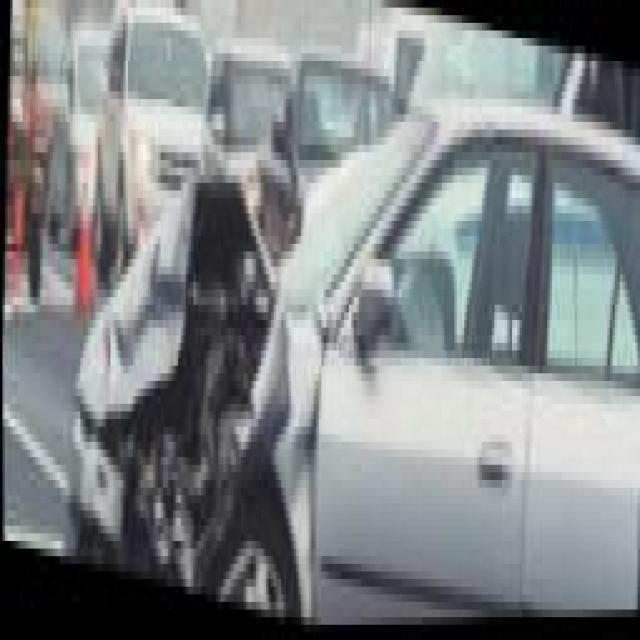Bonnet: (69, 184, 311, 455)
Bumper: (58, 451, 195, 592)
Fender: (90, 349, 320, 618)
